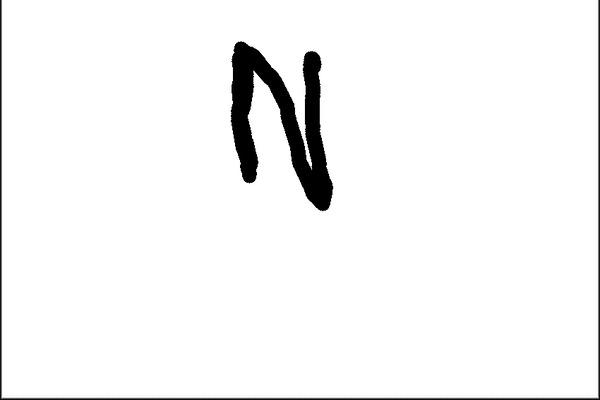N: (222, 36, 335, 213)
